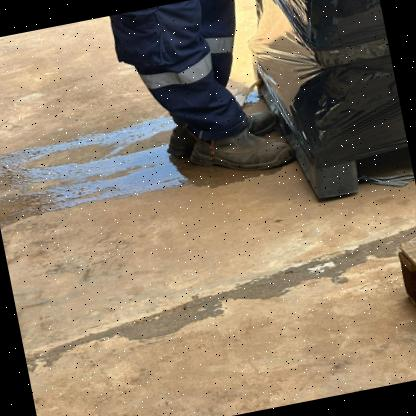bota: (154, 97, 310, 194), (182, 86, 288, 146)
